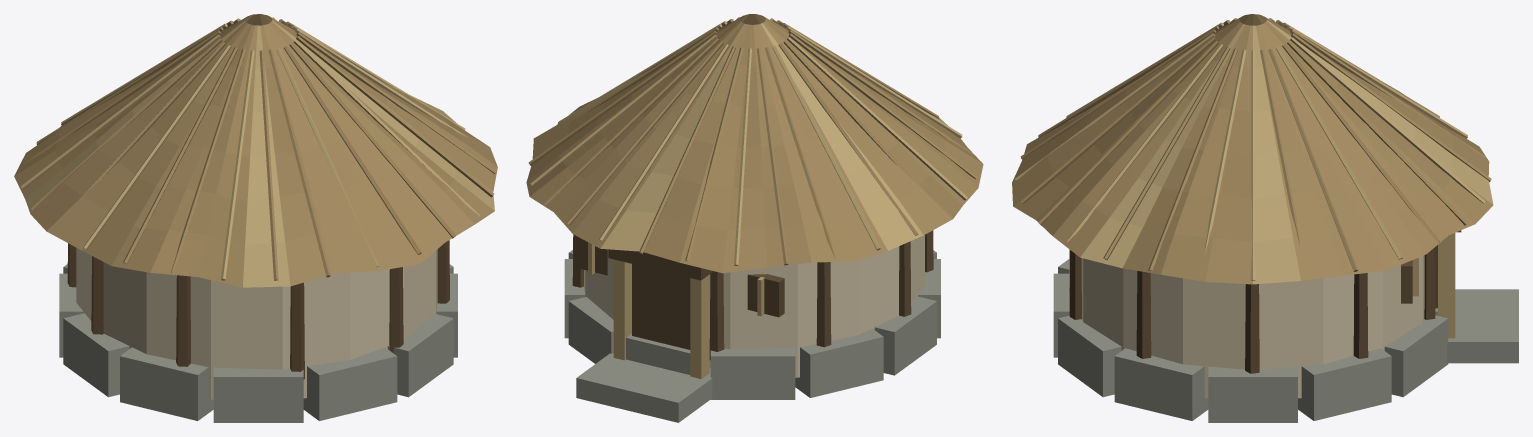
Rendered from village-details.glb.
3 views of the same model, side by side, from view 1: azimuth 30°, elevation 25°; view 2: azimuth 150°, elevation 25°; view 3: azimuth 270°, elevation 25° (orthographic). The views are drawn at different scales.
Parts seen in each view (by area): view 1: hut; view 2: hut; view 3: hut.
Boxes of the visible parts, <box> form: hut: <box>14,14,497,422</box>; hut: <box>526,14,983,422</box>; hut: <box>1012,14,1518,422</box>.
Bounding box in the file's own units: 1.24 × 0.9 × 1.3.
